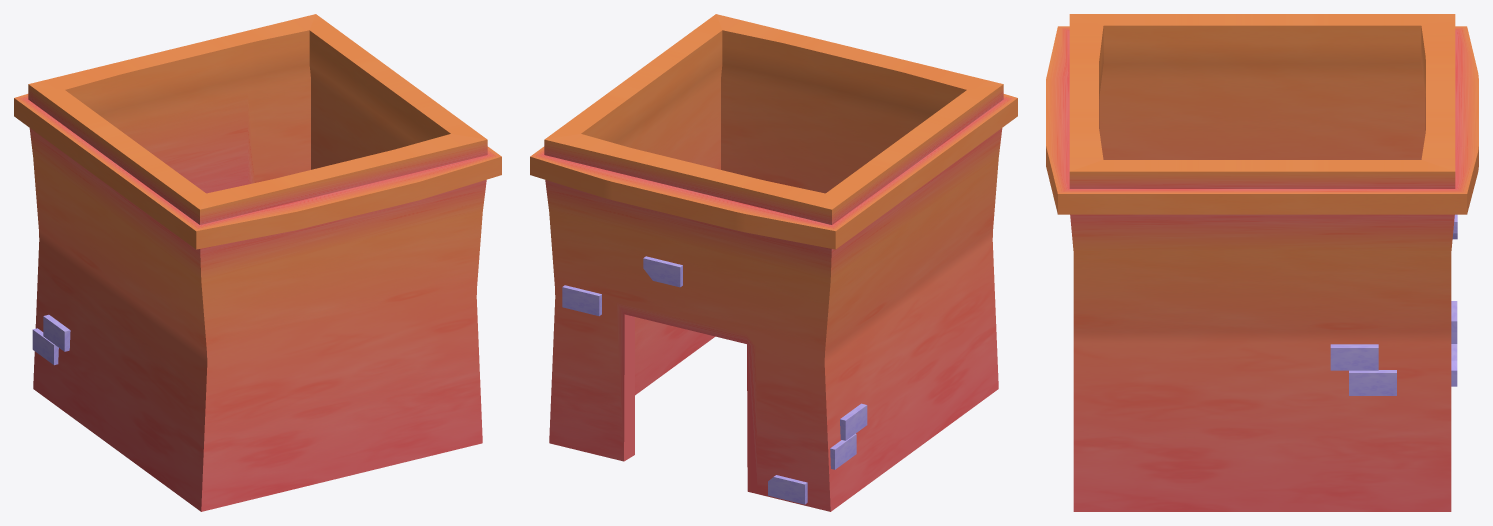
Rendered from B1_Bottom_Orange.fbx.
3 renders of one model, left to right at view 1: azimuth 30°, elevation 25°; view 2: azimuth 150°, elevation 25°; view 3: azimuth 270°, elevation 25°, orthographic. The views are drawn at different scales.
Parts seen in each view (by area): view 1: polySurface3; view 2: polySurface3; view 3: polySurface3.
Part boxes in pixels (x1,y1,x2,y2): polySurface3: [14, 14, 501, 511]; polySurface3: [530, 14, 1017, 511]; polySurface3: [1046, 14, 1478, 511].
Bounding box in the file's own units: 345 × 328 × 376.
